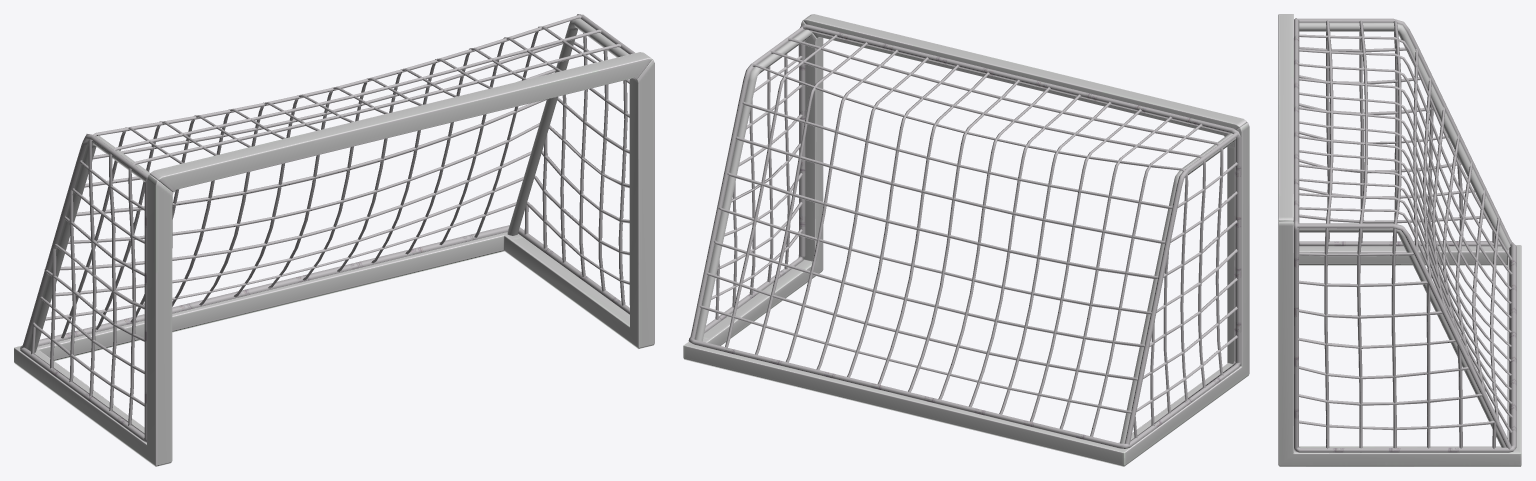
File: FtrSoccergoal.glb
3 views of the same model, side by side, from view 1: azimuth 30°, elevation 25°; view 2: azimuth 150°, elevation 25°; view 3: azimuth 270°, elevation 25° (orthographic). The views are drawn at different scales.
Visible parts, largest first — view 1: goalpost_low__mBody, netBorder_low__mNet; view 2: netBorder_low__mNet, goalpost_low__mBody; view 3: netBorder_low__mNet, goalpost_low__mBody.
Boxes of the visible parts, x1,y1,x2,y2 form: goalpost_low__mBody: [14, 18, 654, 466]; netBorder_low__mNet: [20, 14, 634, 442]; netBorder_low__mNet: [688, 24, 1241, 448]; goalpost_low__mBody: [683, 14, 1249, 466]; netBorder_low__mNet: [1294, 18, 1516, 452]; goalpost_low__mBody: [1278, 14, 1521, 466].
Size of the model in its own units: 29.95 by 16.53 by 14.73.
2 materials, 2 textured.
